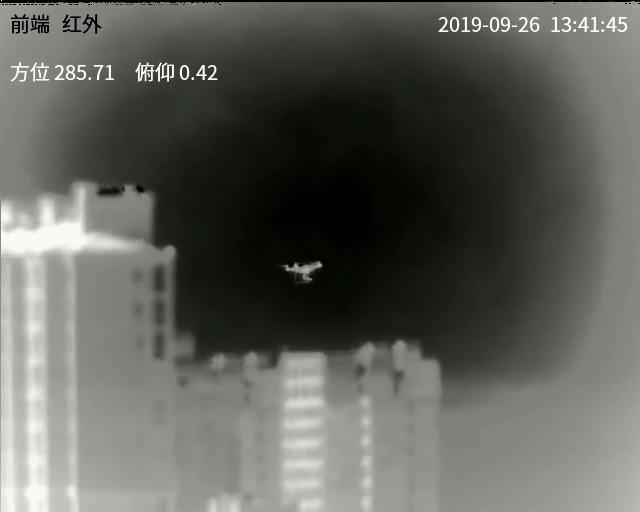uav: (279, 253, 325, 288)
